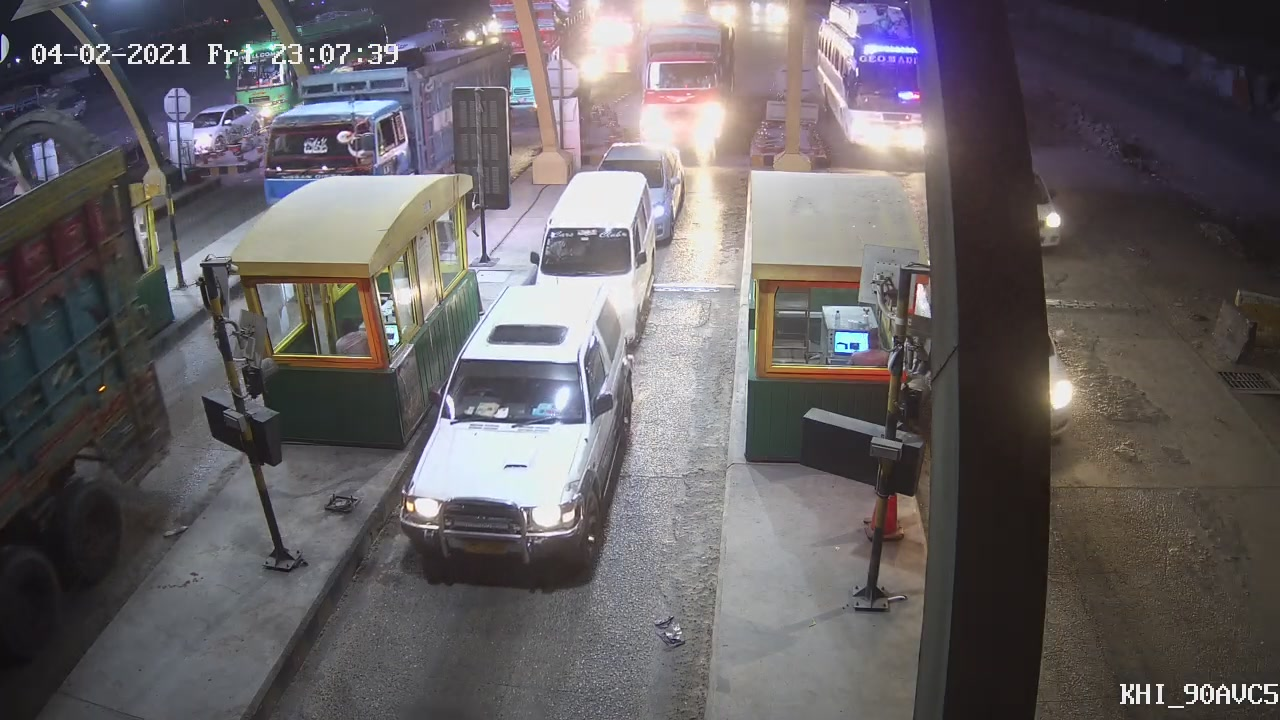F1: (394, 293, 633, 567)
